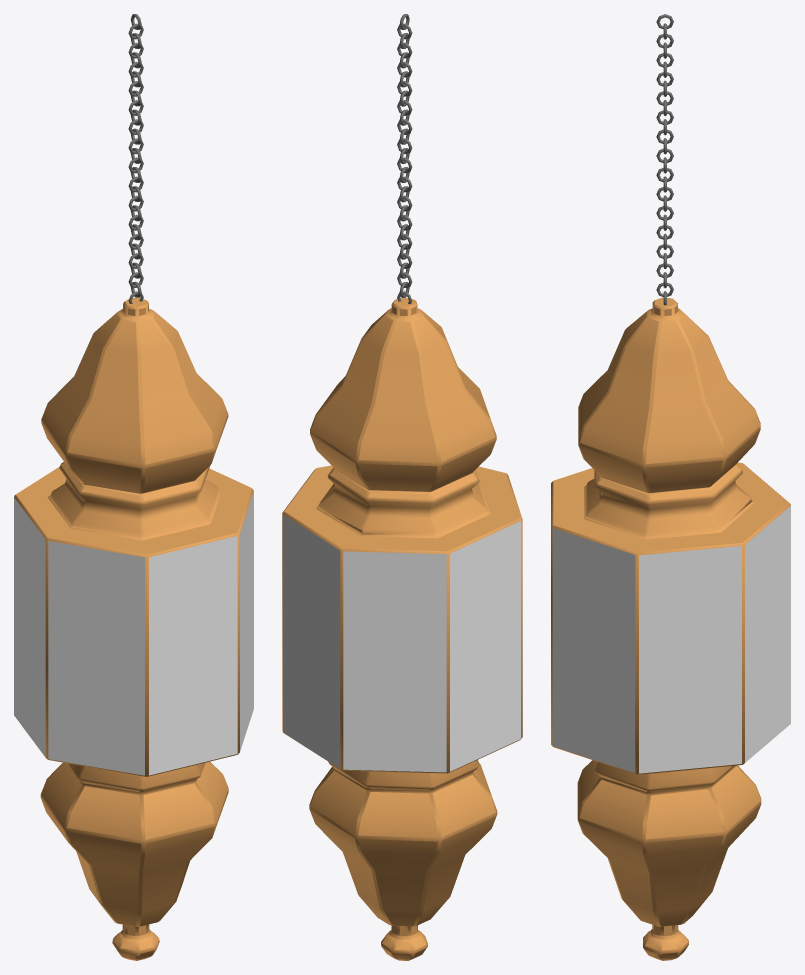
File: lanterne_plafond_00.fbx
3 views of the same model, side by side, from view 1: azimuth 30°, elevation 25°; view 2: azimuth 150°, elevation 25°; view 3: azimuth 270°, elevation 25° (orthographic).
Visible parts, largest first — view 1: lanterne_plafond_00; view 2: lanterne_plafond_00; view 3: lanterne_plafond_00.
Boxes of the visible parts, x1,y1,x2,y2 form: lanterne_plafond_00: (14,14,253,960); lanterne_plafond_00: (282,14,522,960); lanterne_plafond_00: (551,14,790,960).
Size of the model in its own units: 0.2803 by 1.22 by 0.2812.
